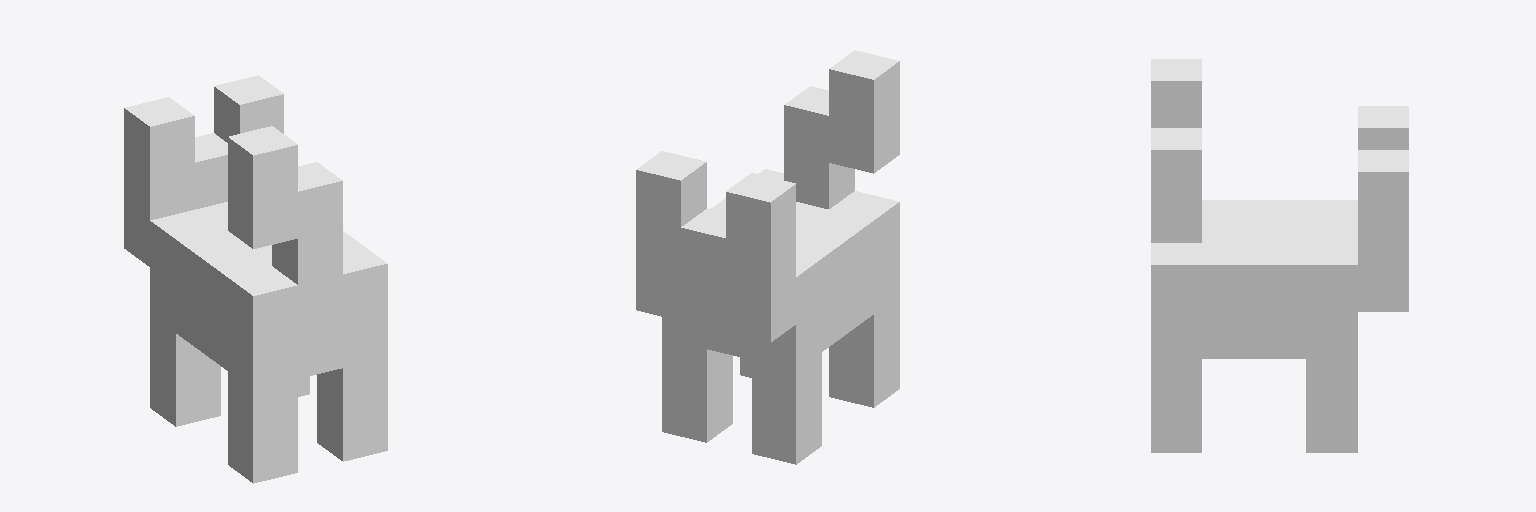
Rendered from kitty.obj.
The picture shows the model from 3 angles: view 1: azimuth 30°, elevation 25°; view 2: azimuth 150°, elevation 25°; view 3: azimuth 270°, elevation 25°; orthographic projection.
Parts seen in each view (by area): view 1: kitty; view 2: kitty; view 3: kitty.
Boxes of the visible parts, x1,y1,x2,y2 form: kitty: [124, 75, 387, 483]; kitty: [636, 50, 899, 464]; kitty: [1151, 59, 1408, 452].
Bounding box in the file's own units: 3 × 7 × 5.